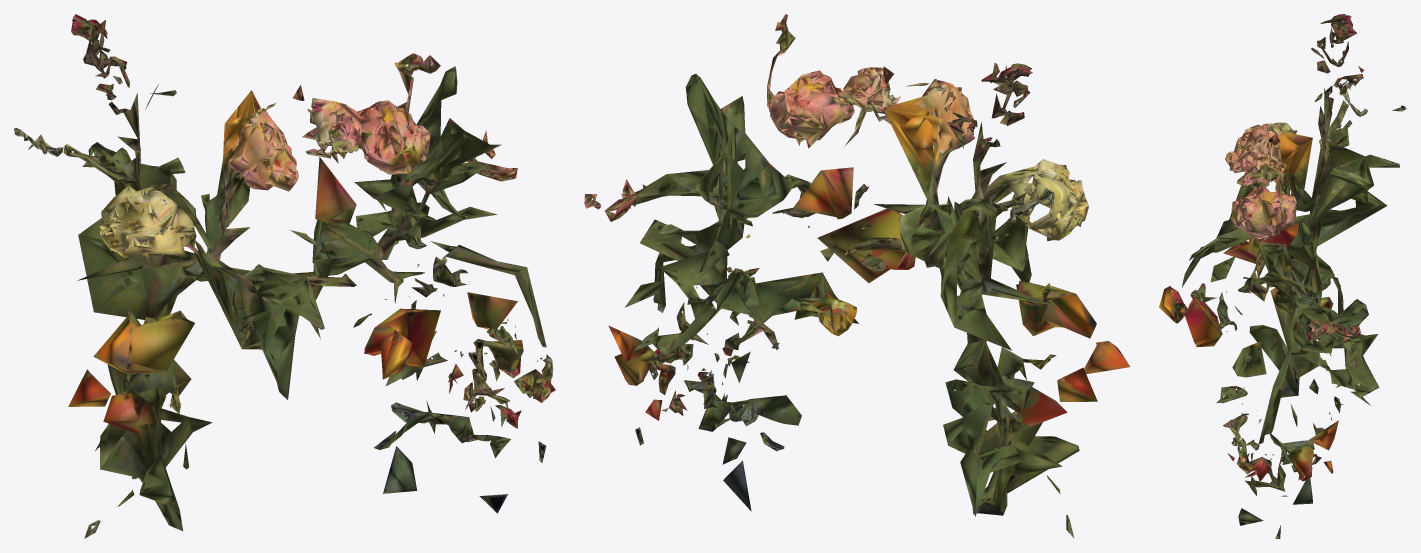
Rendered from Floral_Dreams_Botani_0522122011_texture.glb.
The picture shows the model from 3 angles, left to right: view 1: azimuth 30°, elevation 25°; view 2: azimuth 150°, elevation 25°; view 3: azimuth 270°, elevation 25°; orthographic projection. The views are drawn at different scales.
Size of the model in its own units: 1.83 by 1.97 by 1.14.
Materials: 1 (1 with a texture image).
